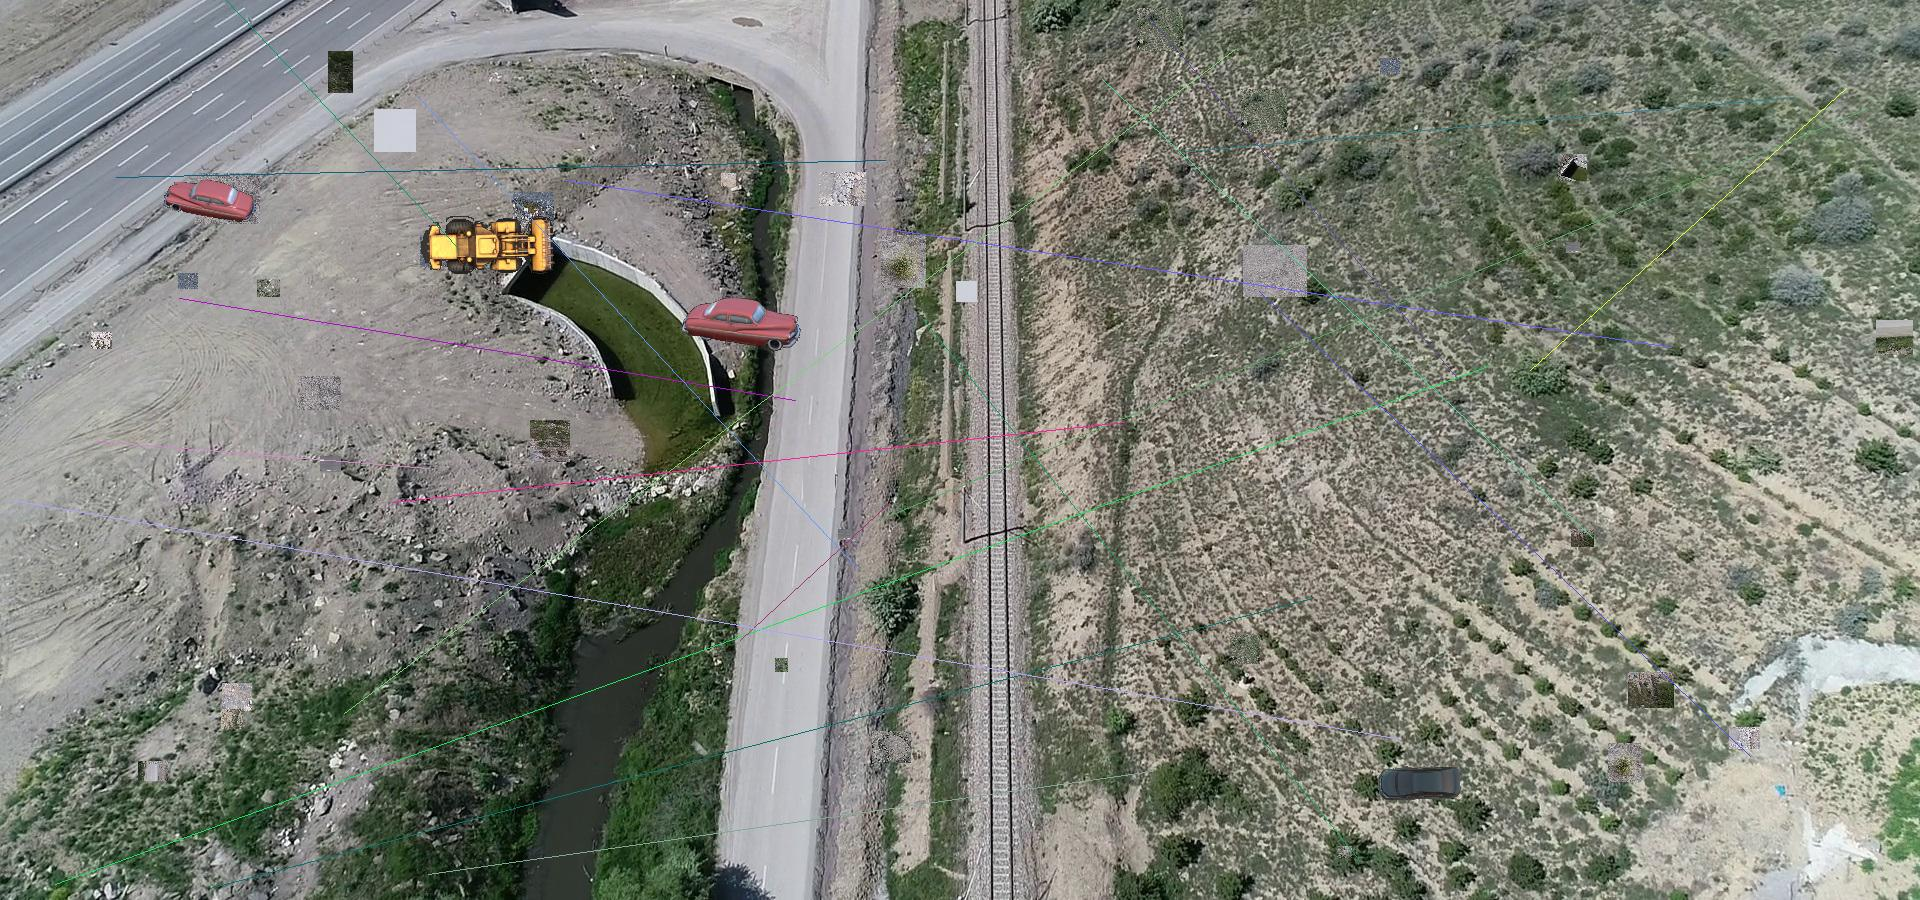arac: (419, 213, 556, 276), (680, 295, 801, 351), (164, 179, 256, 223), (1378, 765, 1464, 804)
